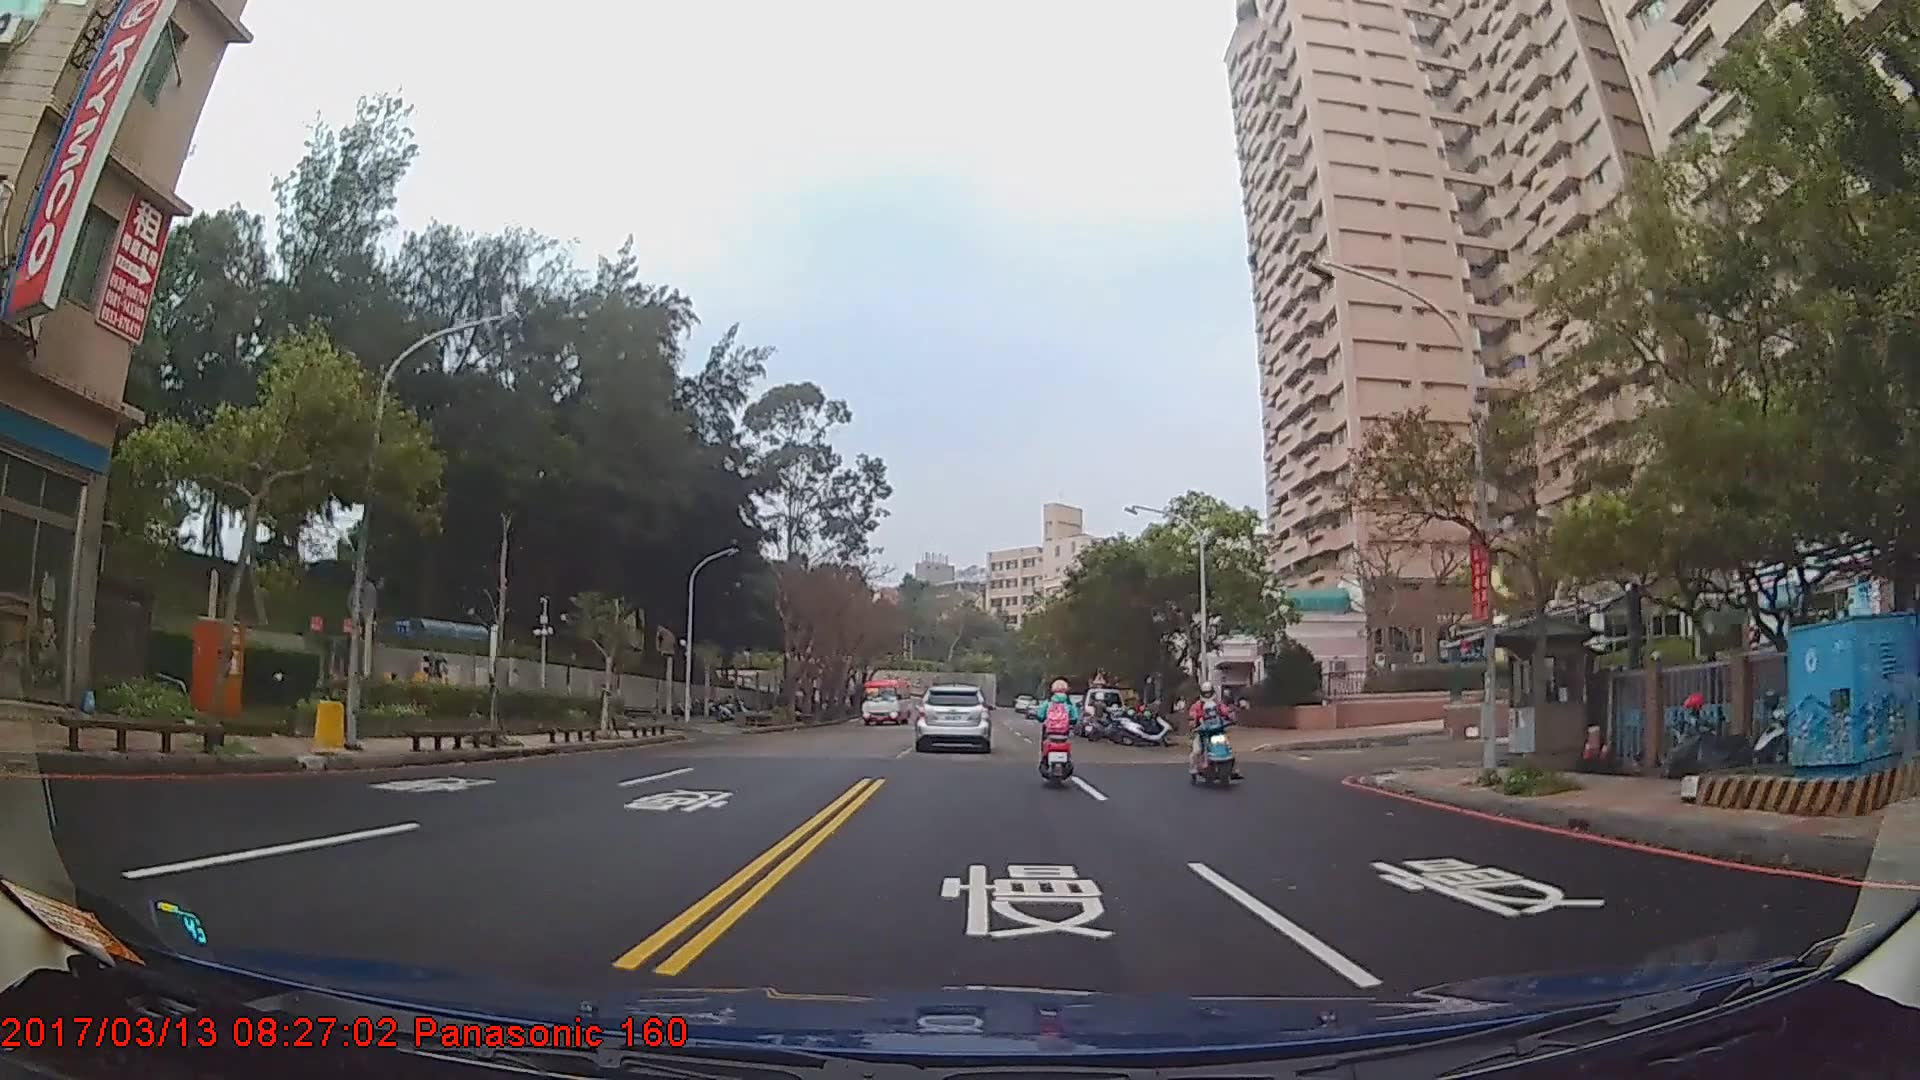rider: (1188, 682, 1239, 787), (1036, 677, 1079, 790), (1084, 689, 1120, 742)
vehicle: (914, 685, 991, 754), (863, 677, 914, 728), (1076, 689, 1125, 739)
